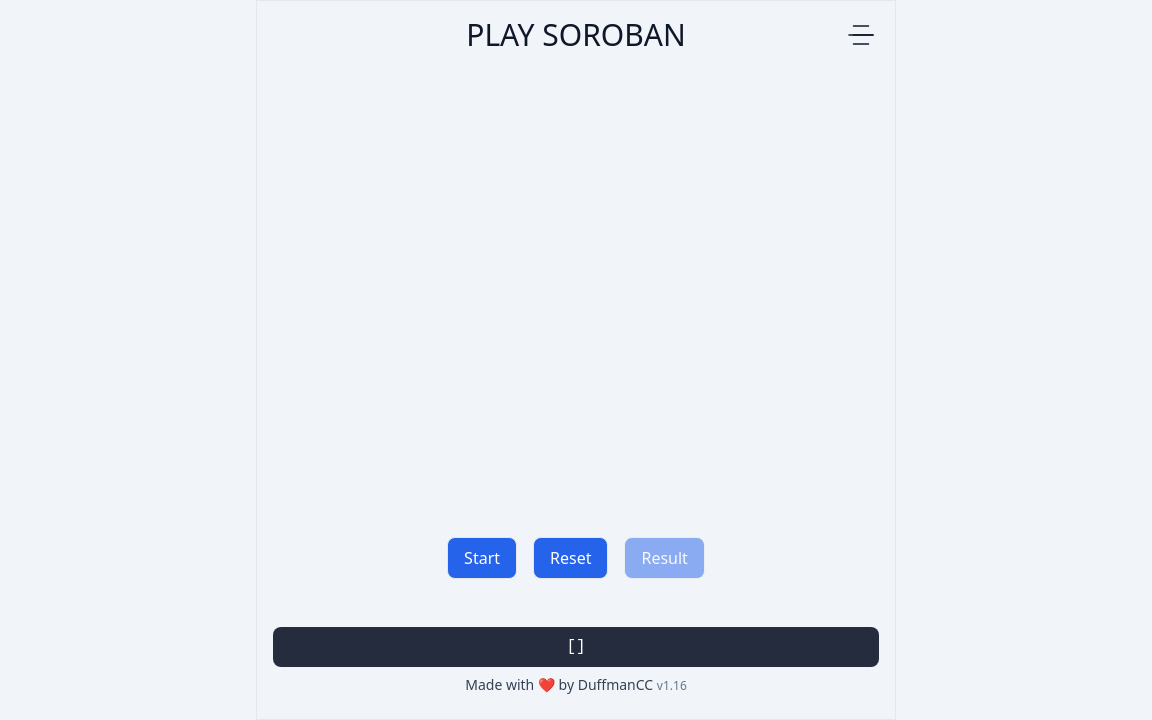
Scenario: Start is disabled after starting
The width and height of the screenshot is (1152, 720).
Click the button "Start".
click(482, 558)  # box [447,537,517,579]
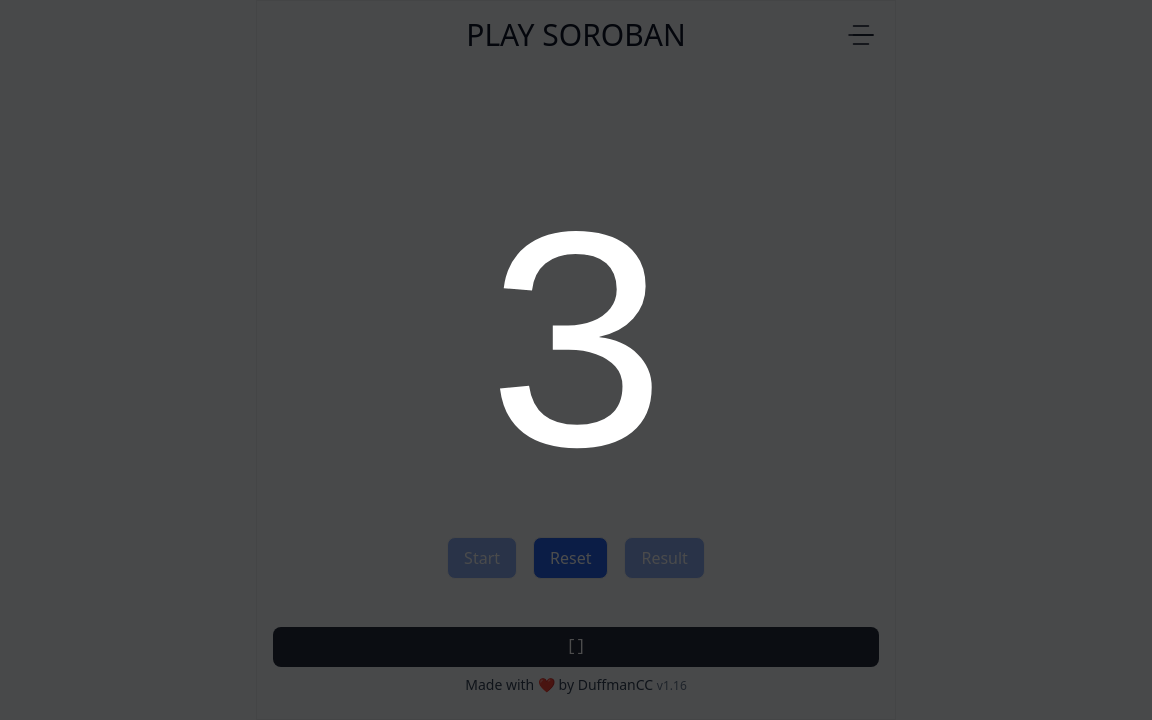
Check: the button "Start" is disabled, box [447,537,517,579]
